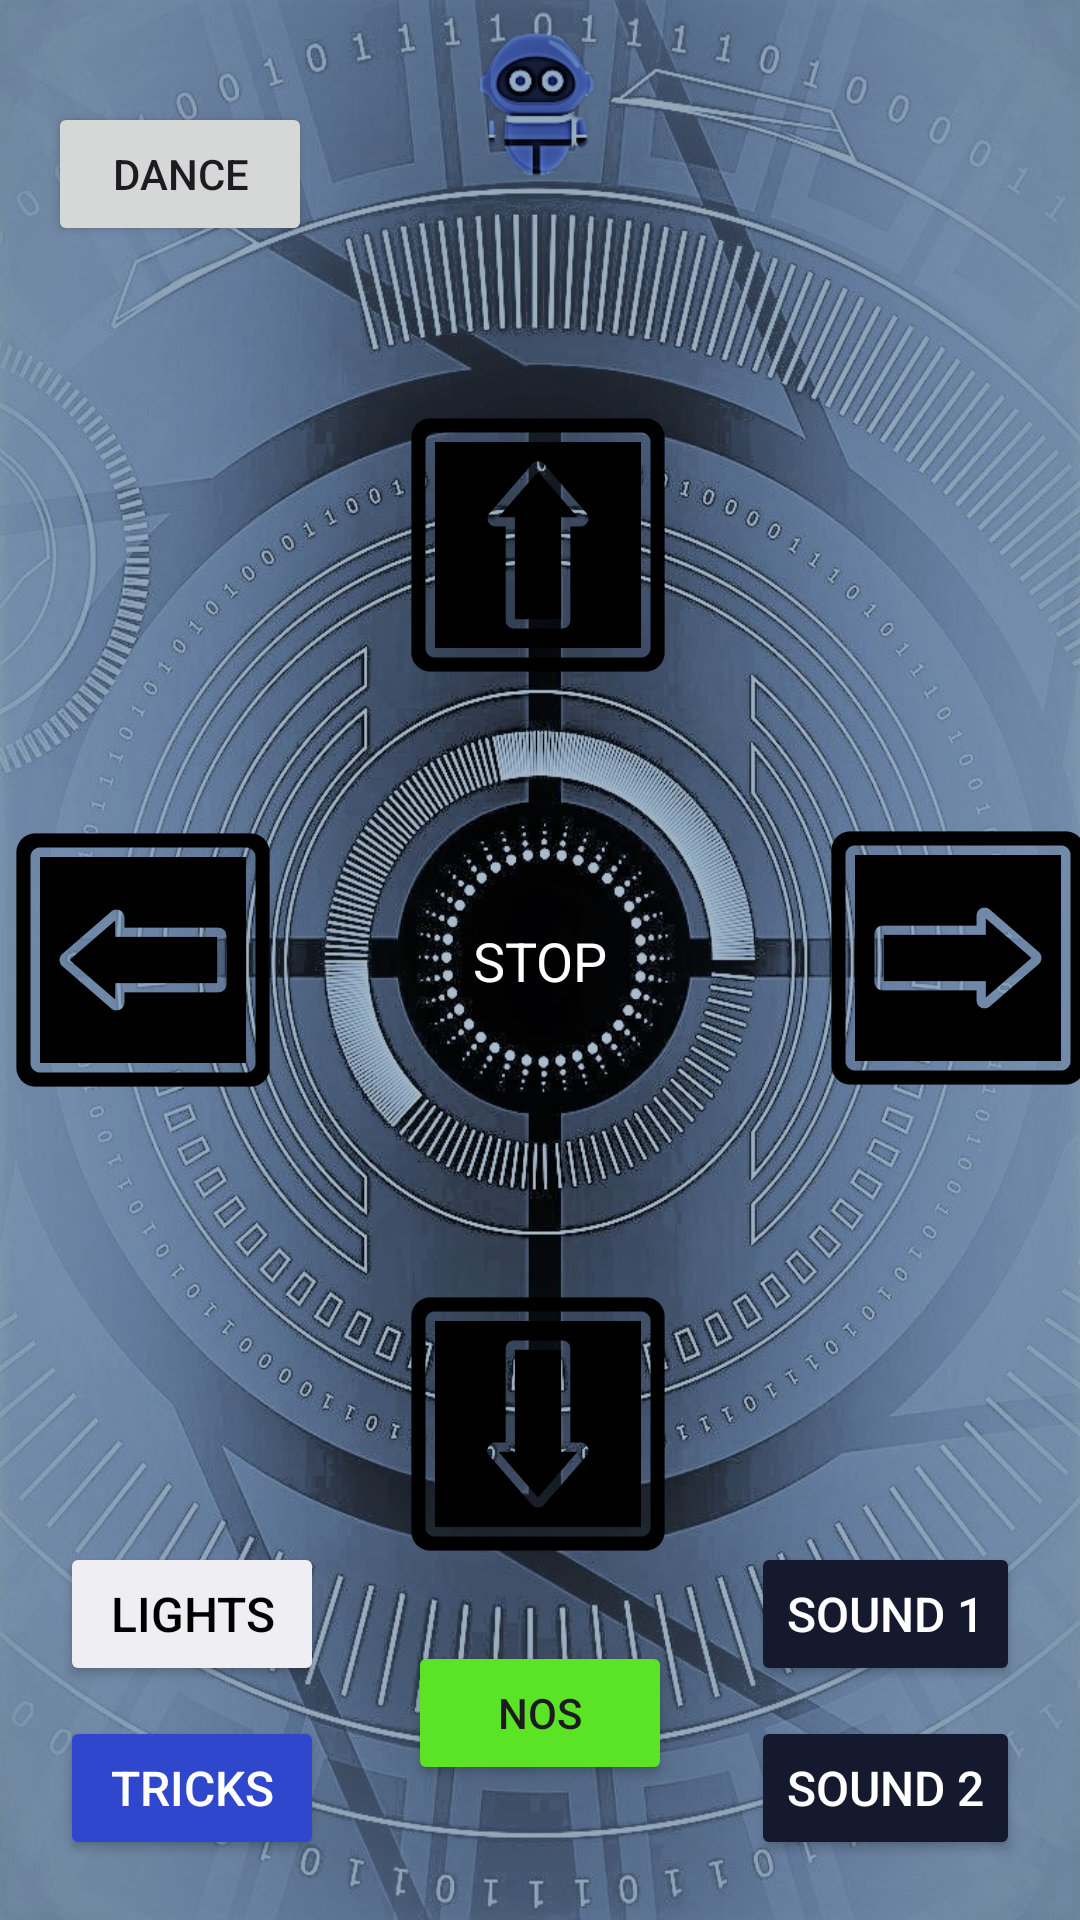

Screen size 1080w x 1920h. Icon name, then its center in pixels as (x=x, y=y):
down: (x=538, y=1424)
left: (x=146, y=960)
right: (x=944, y=958)
